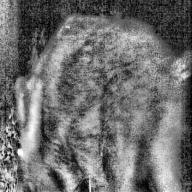boar: (10, 13, 192, 186)
